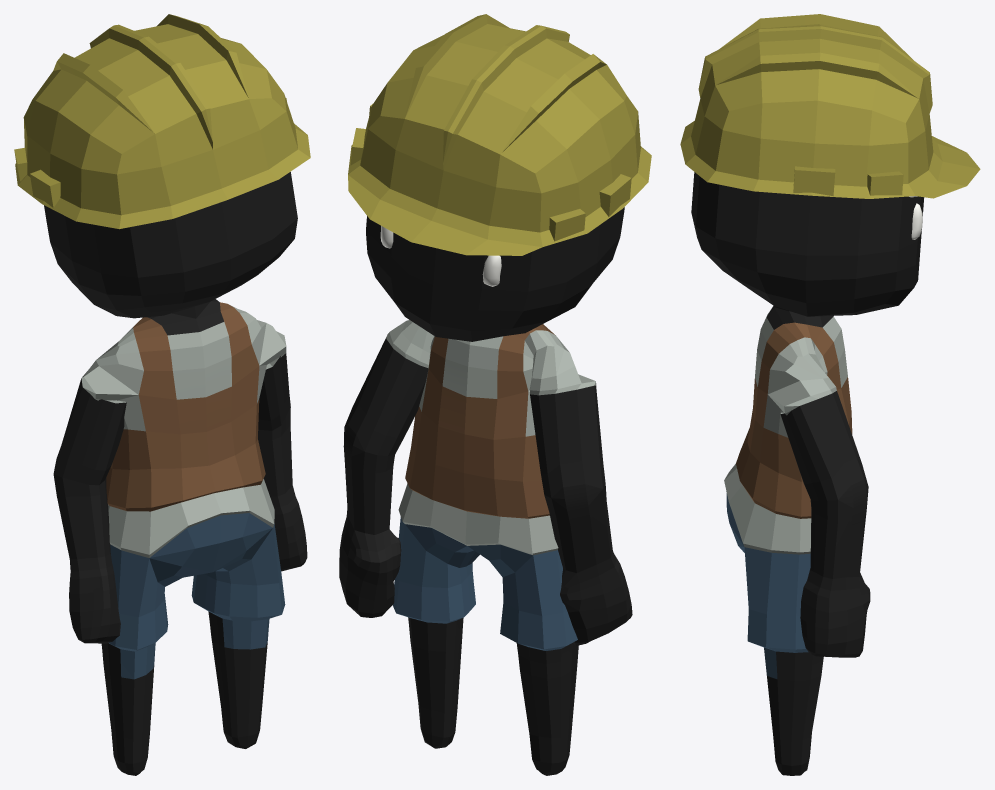
Rendered from Moun_Worker_Male_Stand.fbx.
3 views of the same model, side by side, from view 1: azimuth 30°, elevation 25°; view 2: azimuth 150°, elevation 25°; view 3: azimuth 270°, elevation 25° (orthographic). The views are drawn at different scales.
Visible parts, largest first — view 1: Moun_Worker_Male_Stand; view 2: Moun_Worker_Male_Stand; view 3: Moun_Worker_Male_Stand.
Boxes of the visible parts, x1,y1,x2,y2 form: Moun_Worker_Male_Stand: (14, 14, 310, 775); Moun_Worker_Male_Stand: (339, 14, 651, 775); Moun_Worker_Male_Stand: (680, 14, 980, 775).
Bounding box in the file's own units: 0.6797 × 1.73 × 0.6637.
